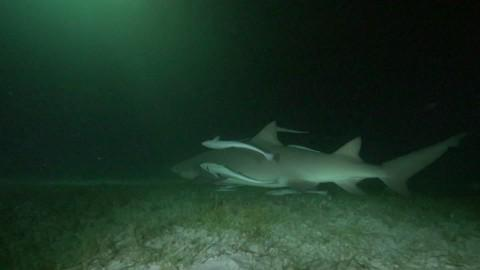Shark -Selachimorpha-: (169, 121, 465, 195)
